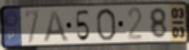2: (126, 6, 145, 42)
5: (75, 9, 91, 42)
7: (24, 9, 42, 45)
8: (148, 6, 169, 40)
A: (42, 9, 71, 43)
O: (95, 7, 117, 42)
